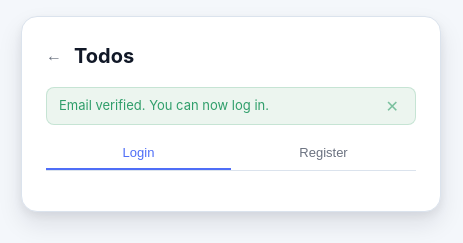
AuthPage › dismisses message when dismiss button is clicked
Expected: the text "Email verified. You can now log in." is shown, [59, 96, 269, 116]
Click the button "✕" at (392, 106), box [382, 96, 403, 116]
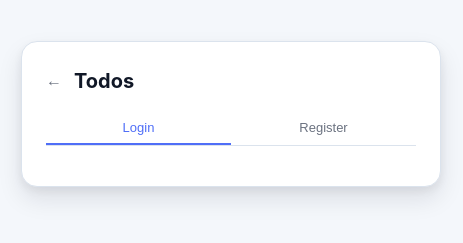
Now the text "Email verified. You can now log in." is gone
